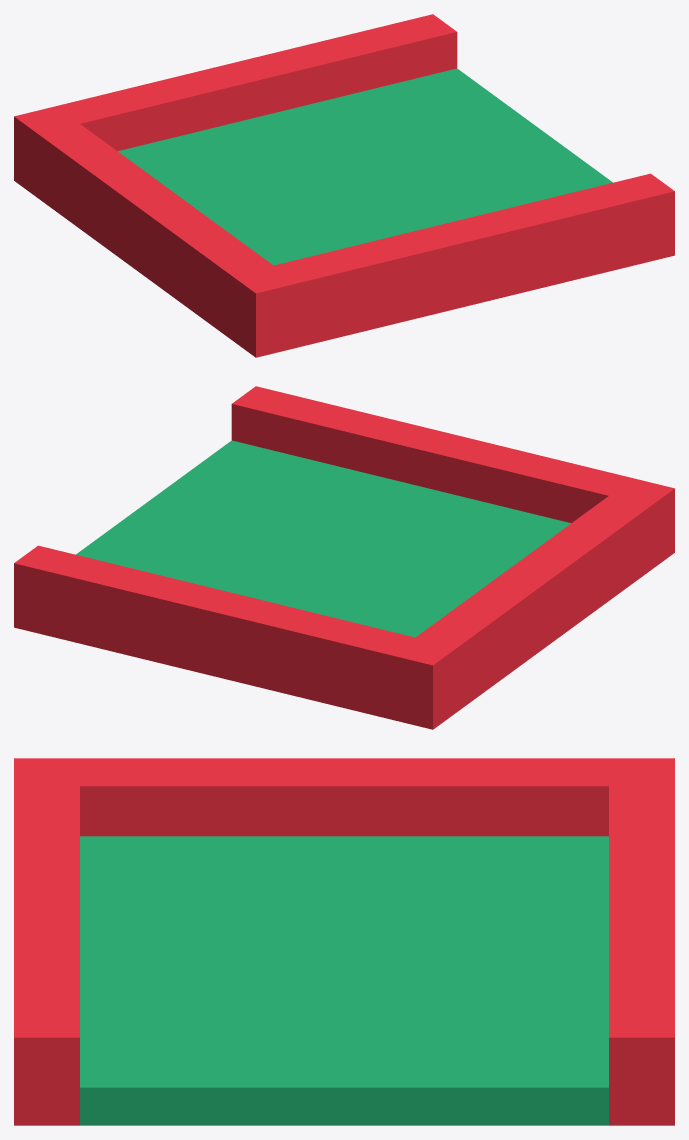
Rendered from end.dae.
3 renders of one model, top to bottom at view 1: azimuth 30°, elevation 25°; view 2: azimuth 150°, elevation 25°; view 3: azimuth 270°, elevation 25°, orthographic. The views are drawn at different scales.
Parts seen in each view (by area): view 1: end; view 2: end; view 3: end.
Boxes of the visible parts, bbox=[...] form: end: bbox=[14, 14, 674, 357]; end: bbox=[14, 386, 674, 729]; end: bbox=[14, 758, 674, 1125].
Size of the model in its own units: 0.9999 by 0.1467 by 0.9999.
